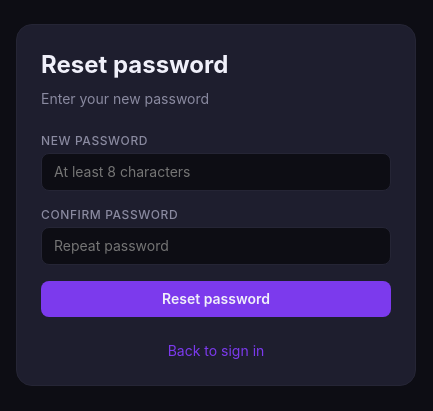
ResetPasswordPage › should show error when passwords do not match
In the password field labelled "New password": [216, 172] box 41,153 -> 391,191, type "password123"
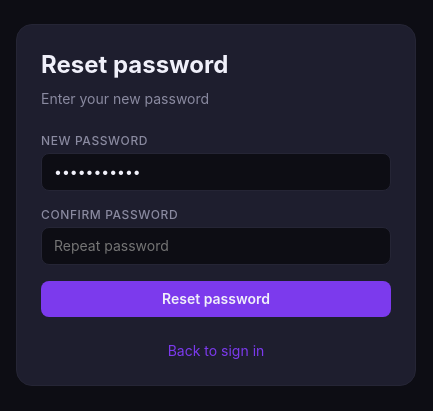
In the password field labelled "Confirm password": [216, 246] box 41,227 -> 391,265, type "different123"
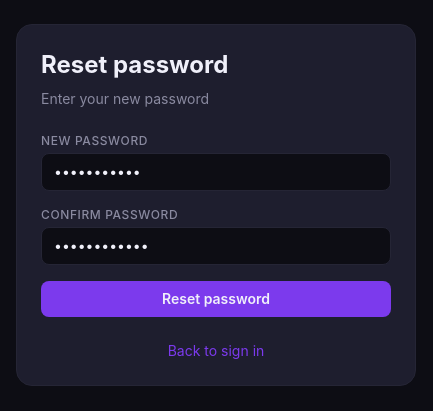
Click the button "Reset password": [216, 299] box 41,281 -> 391,317
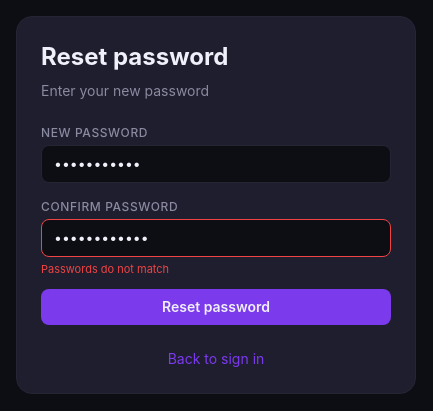
Result: the text "Passwords do not match" is shown at 41,262 -> 169,276
